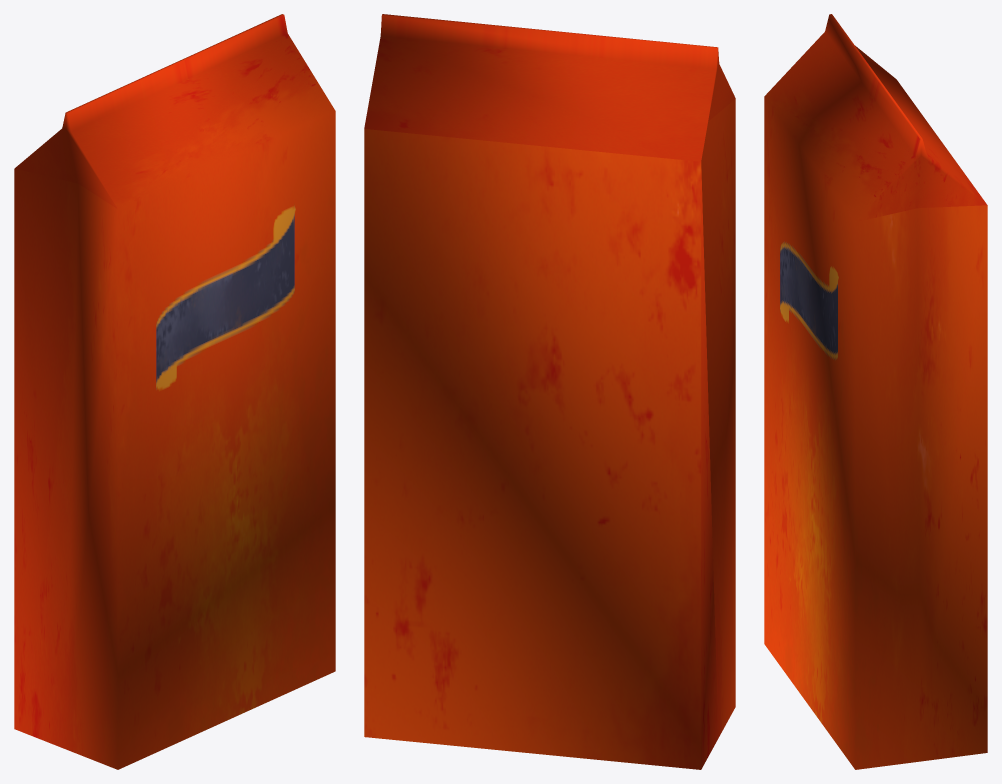
The model's file is 01-cafemoulu-model.glb.
The picture shows the model from 3 angles, left to right: view 1: azimuth 30°, elevation 25°; view 2: azimuth 150°, elevation 25°; view 3: azimuth 270°, elevation 25°; orthographic projection. The views are drawn at different scales.
Parts seen in each view (by area): view 1: 01-cafemoulu-model; view 2: 01-cafemoulu-model; view 3: 01-cafemoulu-model.
Part boxes in pixels (bbox=[...]): 01-cafemoulu-model: bbox=[14, 14, 335, 769]; 01-cafemoulu-model: bbox=[364, 14, 735, 769]; 01-cafemoulu-model: bbox=[764, 14, 987, 769].
Size of the model in its own units: 1.78 by 3.6 by 1.17.
1 material, 1 textured.
